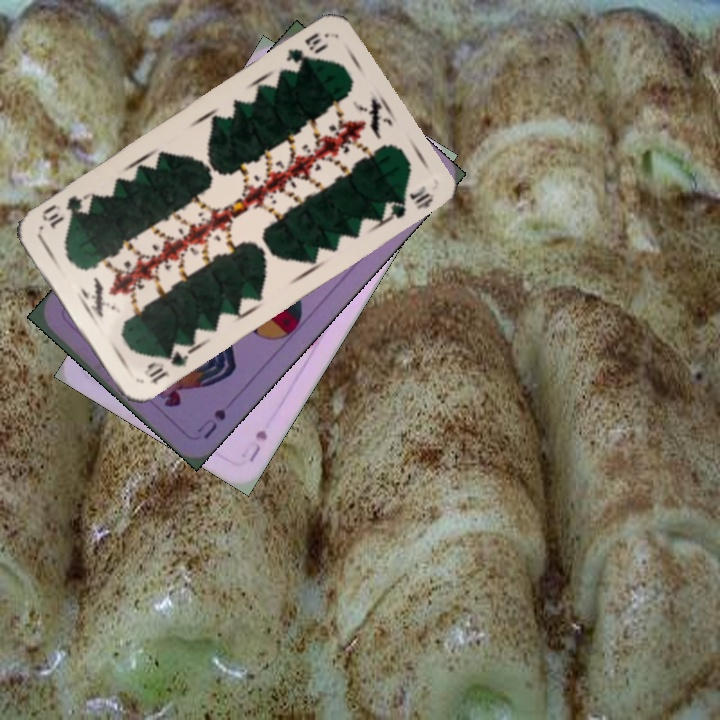G10: (139, 345, 192, 388), (282, 28, 331, 70)
SU: (193, 405, 229, 441), (243, 425, 270, 465)
